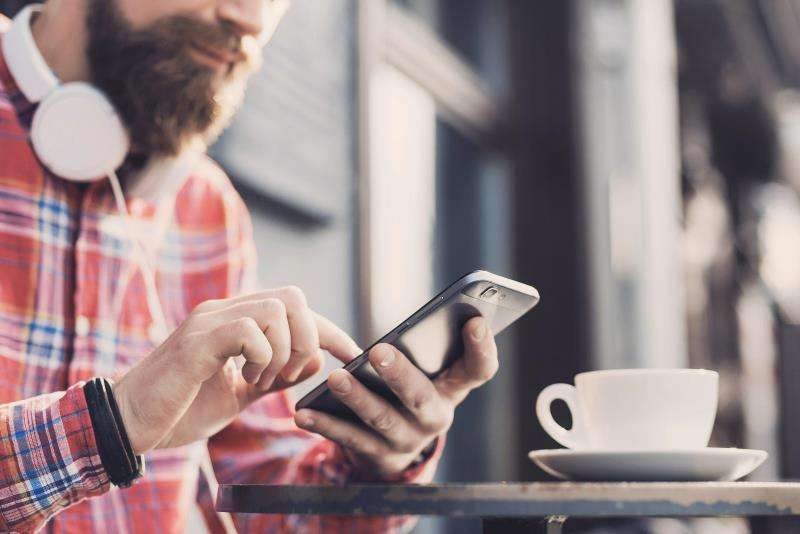reading: (114, 256, 542, 464)
